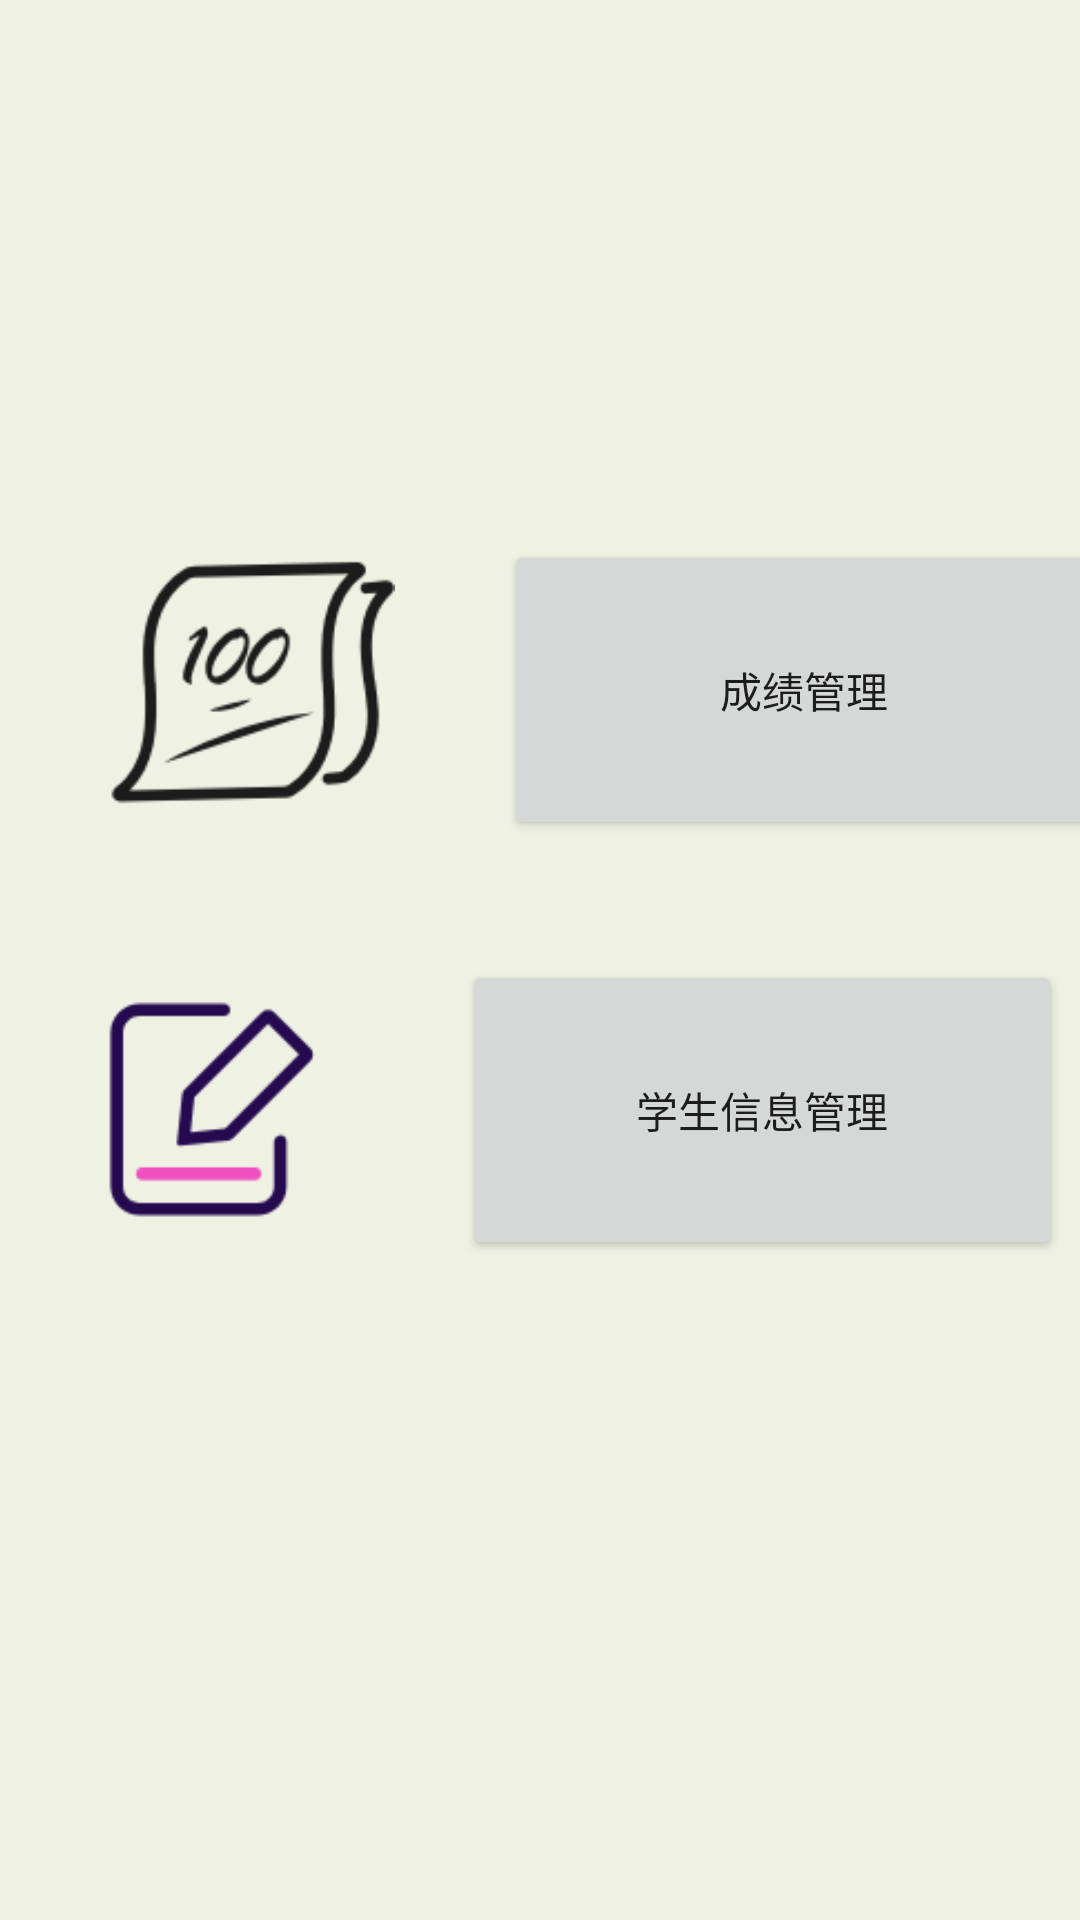

Screen size 1080 × 1920. Icon name, then its center in pixels as point (x, y):
grade: point (253, 682)
